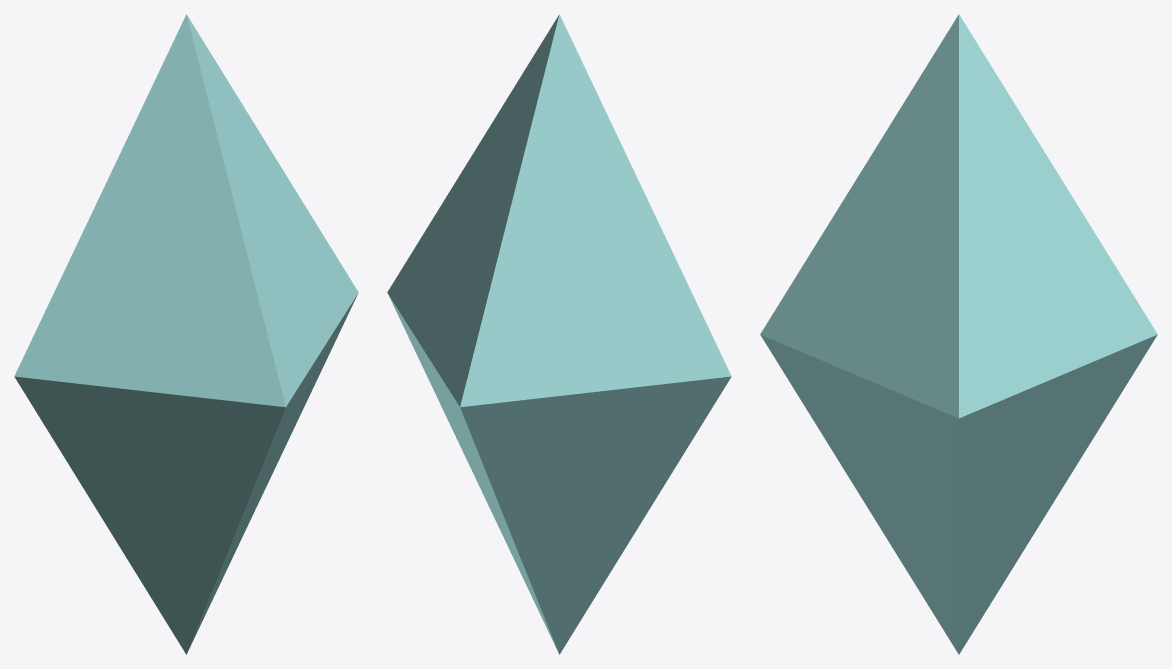
The model's file is kristal.fbx.
The picture shows the model from 3 angles, left to right: view 1: azimuth 30°, elevation 25°; view 2: azimuth 150°, elevation 25°; view 3: azimuth 270°, elevation 25°; orthographic projection.
Visible parts, largest first — view 1: Cube; view 2: Cube; view 3: Cube.
Part boxes in pixels (x1=…): Cube: x1=14, y1=14, x2=358, y2=654; Cube: x1=387, y1=14, x2=731, y2=654; Cube: x1=760, y1=14, x2=1157, y2=654.
Size of the model in its own units: 200 by 356 by 200.
